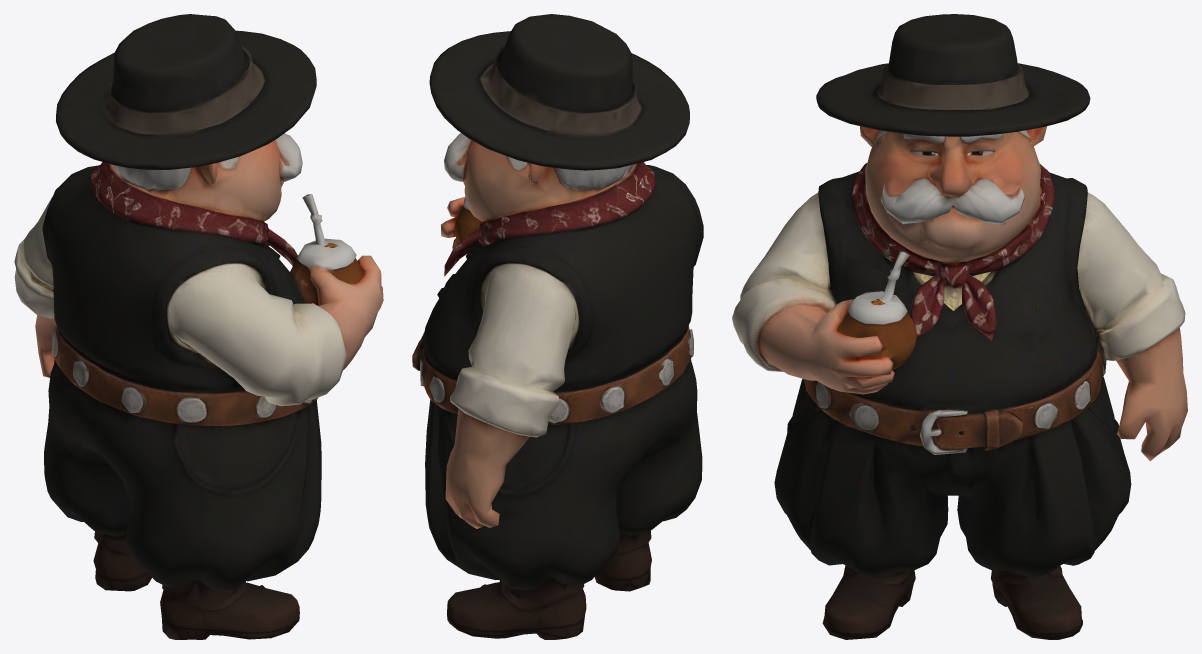
The model's file is grandpa.glb.
3 renders of one model, left to right at view 1: azimuth 30°, elevation 25°; view 2: azimuth 150°, elevation 25°; view 3: azimuth 270°, elevation 25°, orthographic. The views are drawn at different scales.
Parts seen in each view (by area): view 1: tripo_node_29089f2f-9f61-4a02-8722-e7feff36d313; view 2: tripo_node_29089f2f-9f61-4a02-8722-e7feff36d313; view 3: tripo_node_29089f2f-9f61-4a02-8722-e7feff36d313.
Boxes of the visible parts, x1,y1,x2,y2 form: tripo_node_29089f2f-9f61-4a02-8722-e7feff36d313: (14,14,383,639); tripo_node_29089f2f-9f61-4a02-8722-e7feff36d313: (412,14,703,639); tripo_node_29089f2f-9f61-4a02-8722-e7feff36d313: (732,14,1187,639).
Size of the model in its own units: 0.4878 by 1 by 0.7031.
Materials: 1 (1 with a texture image).
